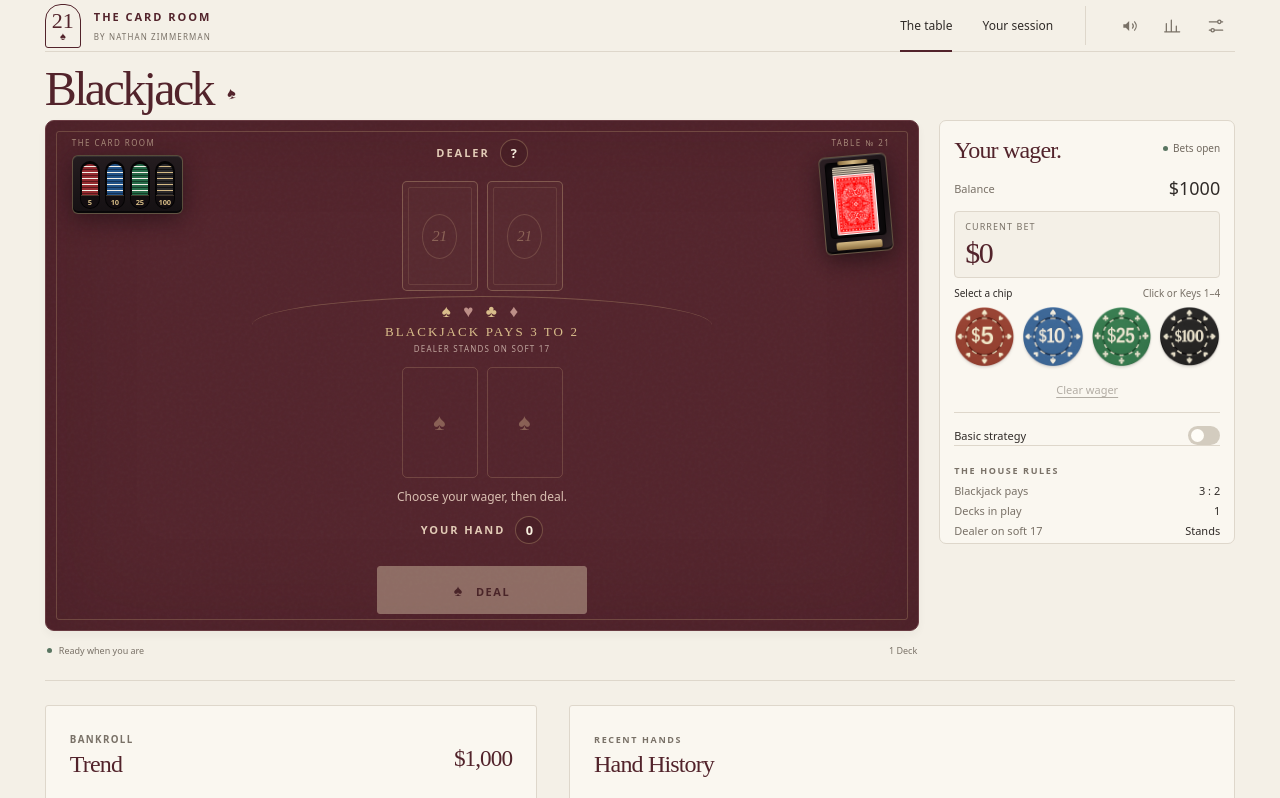
Test: BlackjackGame › places a bet through the API and updates the current bet display
This screenshot has width=1280, height=798.
Click the button with alt text "$5 chip": [985, 336] box left=954, top=306, right=1016, bottom=367
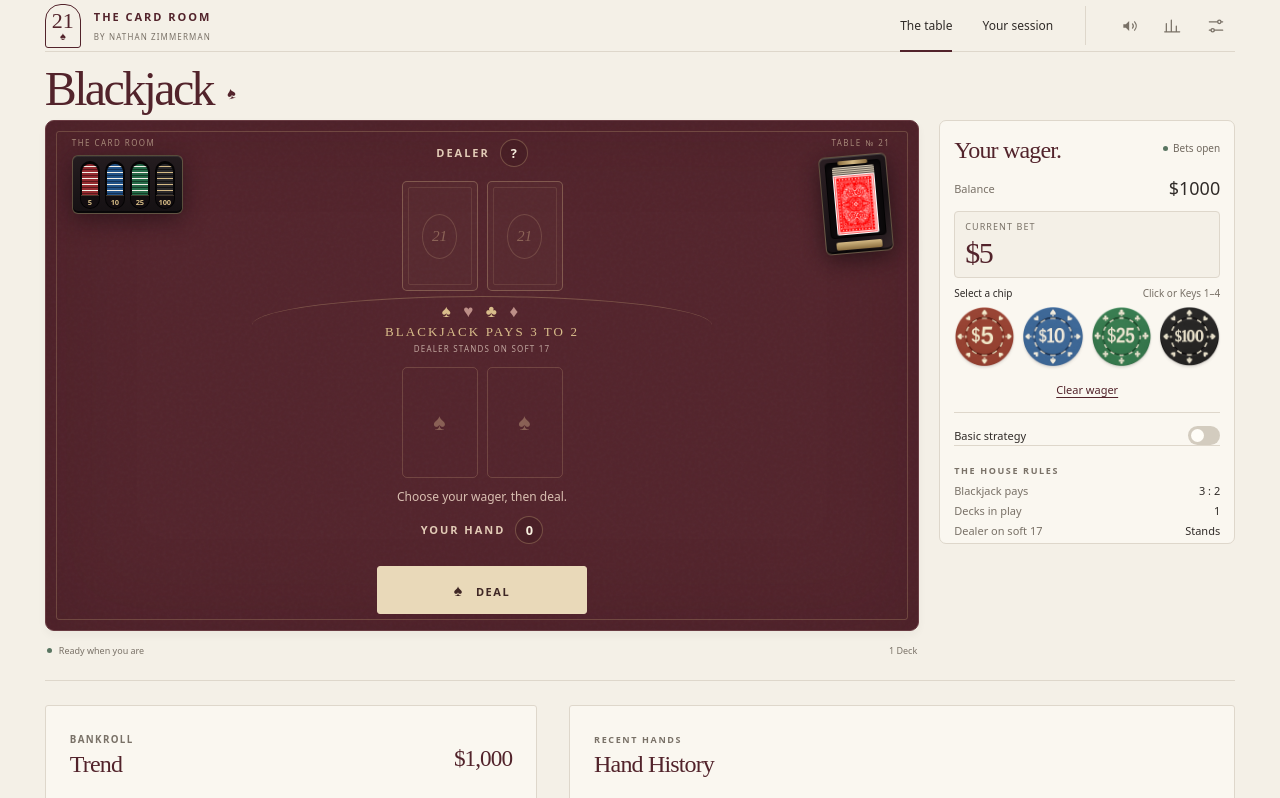
Expected: the text "Current Bet" is shown, left=965, top=220, right=1036, bottom=233
Now the text "$5" is shown, box left=965, top=237, right=992, bottom=269
